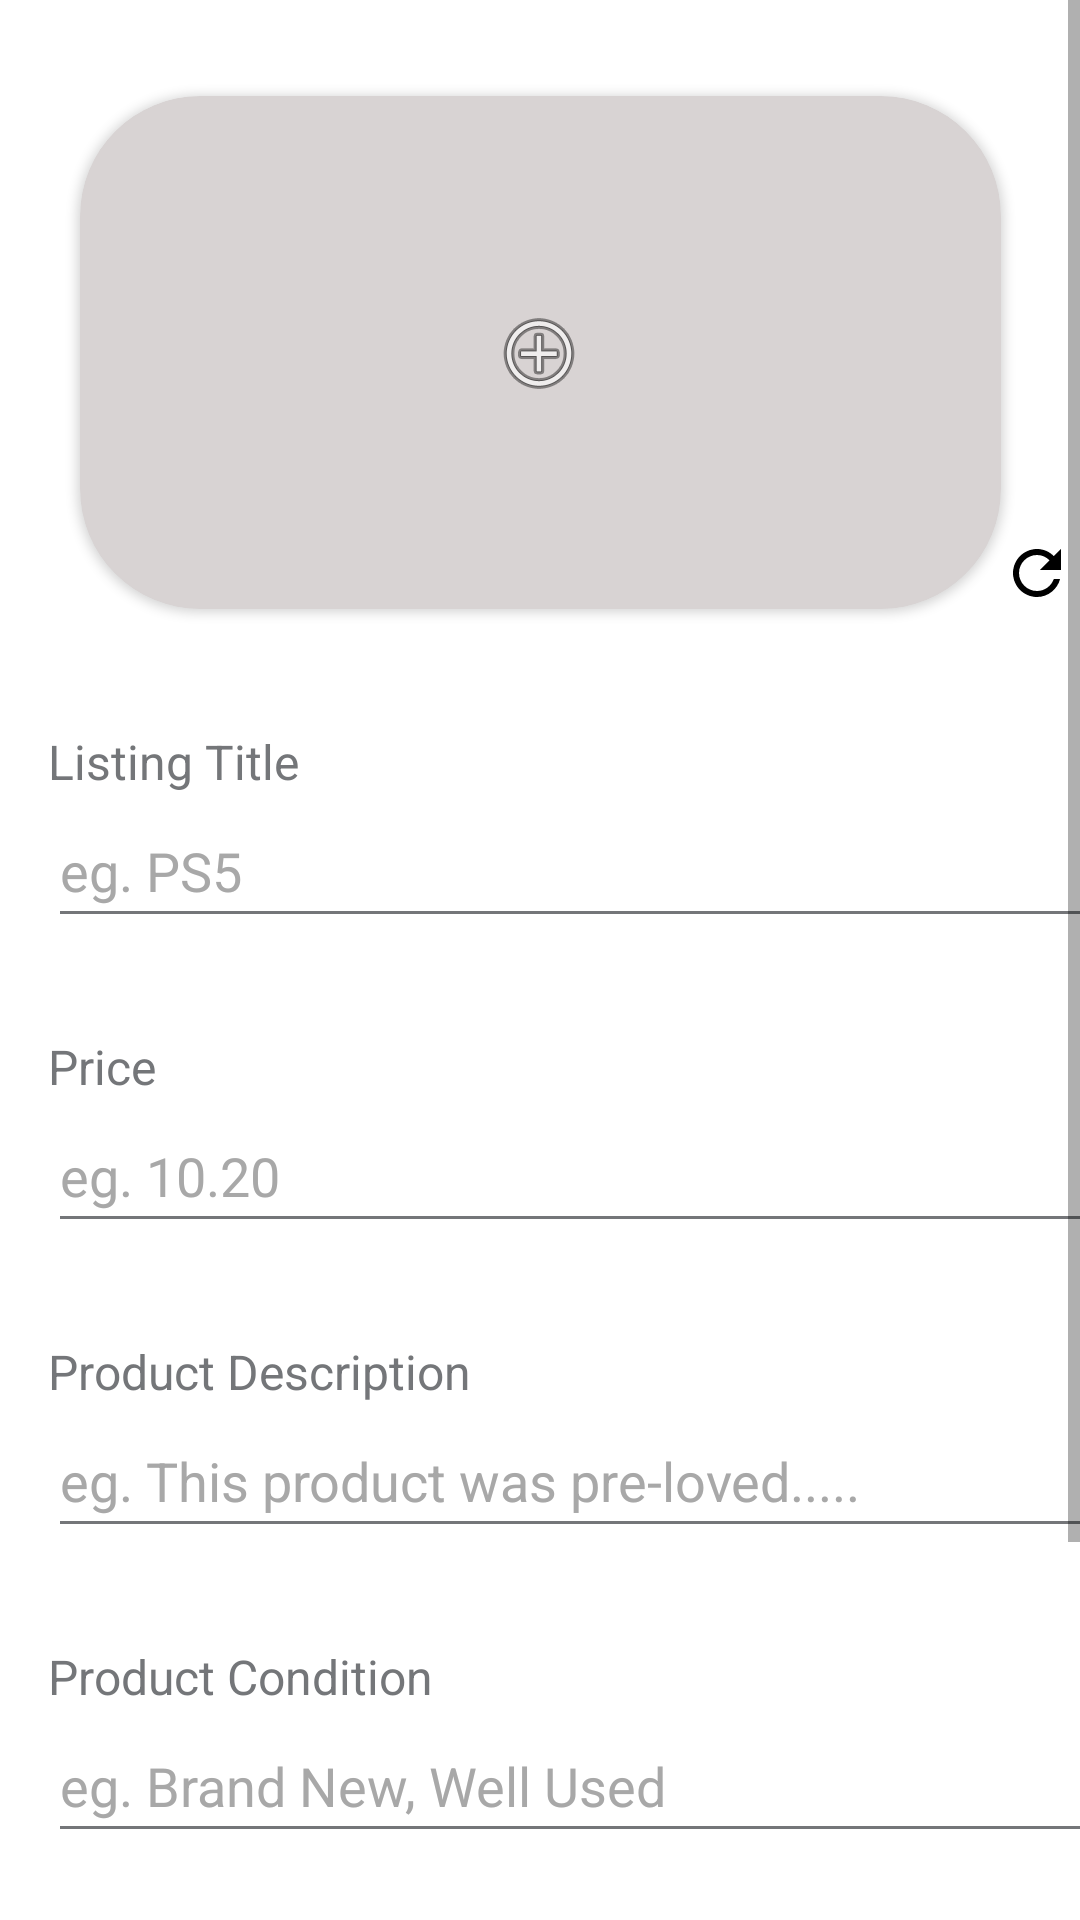

Icons on this 1080px×1920px Android screen, each with its box as Rect(x1, y1, x2, y2):
add: Rect(503, 318, 575, 389)
refresh: Rect(1013, 549, 1061, 597)
